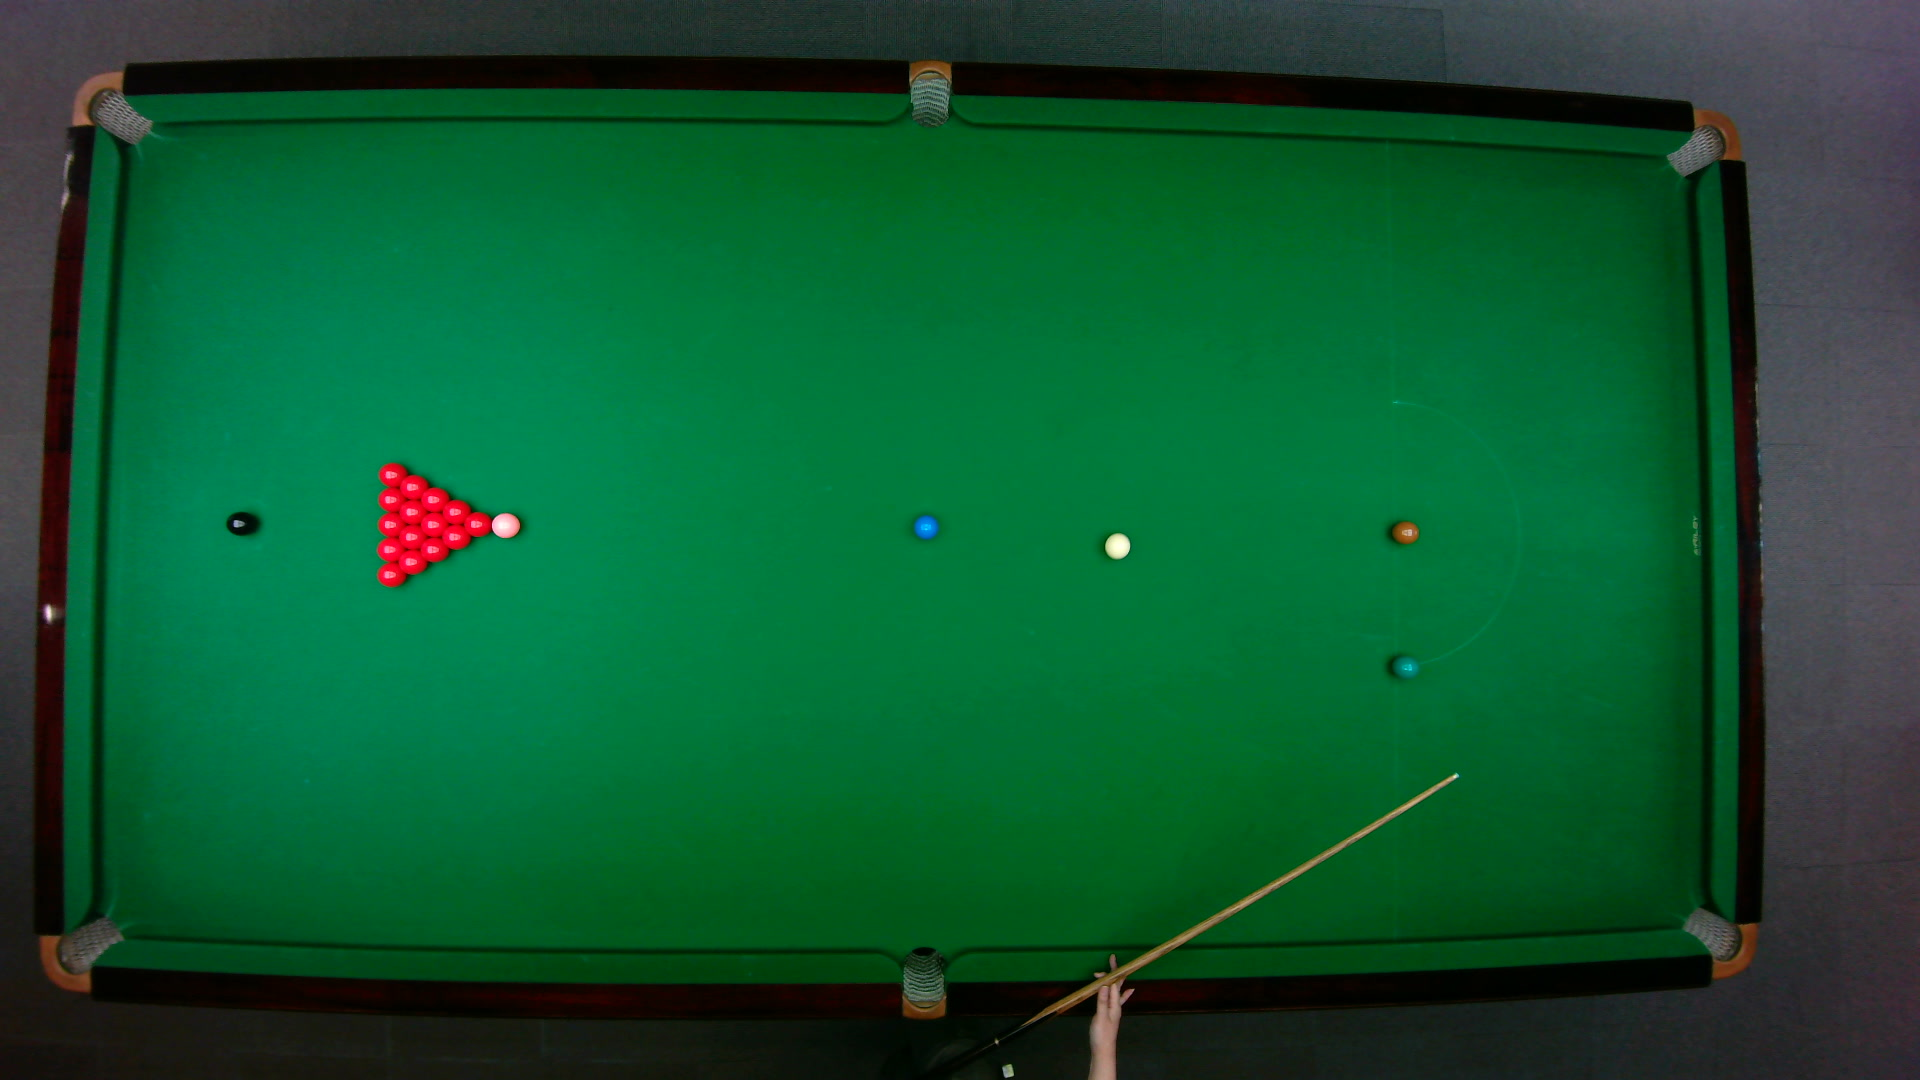bag: (38, 914, 125, 992), (69, 70, 152, 144), (1679, 905, 1756, 978), (1663, 107, 1741, 177), (901, 944, 944, 1021), (909, 58, 949, 128)
black: (224, 510, 256, 535)
blue: (911, 512, 940, 541)
brown: (1389, 520, 1419, 545)
cue: (969, 766, 1461, 1067)
green: (1389, 651, 1419, 679)
pink: (489, 510, 521, 539)
red: (396, 549, 430, 578), (396, 471, 429, 500), (418, 537, 452, 563), (375, 563, 407, 589), (376, 462, 410, 487), (376, 512, 407, 538), (421, 487, 451, 513), (442, 498, 473, 524), (376, 488, 407, 513), (375, 538, 406, 563), (442, 524, 471, 550), (464, 512, 495, 537), (398, 525, 429, 550), (398, 498, 426, 524), (421, 513, 448, 537)
white: (1101, 530, 1131, 559)
zone: (1390, 400, 1520, 666)
